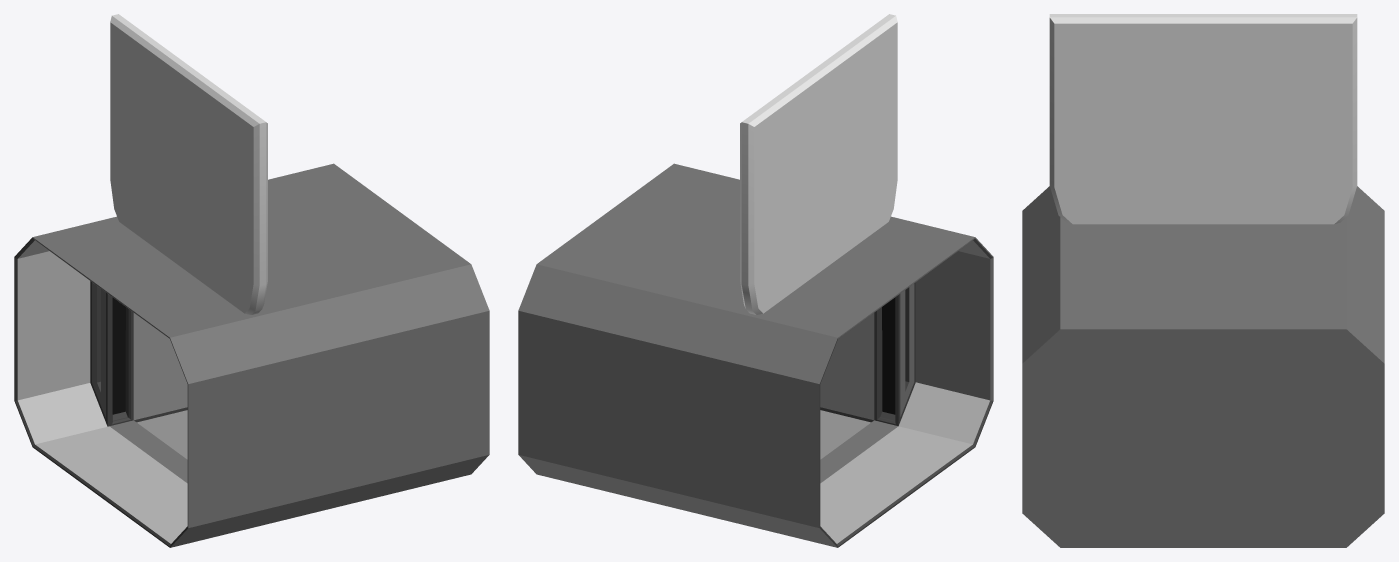
Rendered from Elevator.fbx.
The picture shows the model from 3 angles, left to right: view 1: azimuth 30°, elevation 25°; view 2: azimuth 150°, elevation 25°; view 3: azimuth 270°, elevation 25°; orthographic projection. The views are drawn at different scales.
Visible parts, largest first — view 1: normal Hallway.001, Cube.007; view 2: normal Hallway.001, Cube.007; view 3: normal Hallway.001, Cube.007.
Part boxes in pixels (left/top/right/bottom): normal Hallway.001: left=14, top=163, right=489, bottom=547; Cube.007: left=110, top=14, right=267, bottom=314; normal Hallway.001: left=518, top=163, right=993, bottom=547; Cube.007: left=740, top=14, right=897, bottom=314; normal Hallway.001: left=1022, top=186, right=1384, bottom=547; Cube.007: left=1049, top=14, right=1357, bottom=224.
Size of the model in its own units: 600 by 775 by 600.
